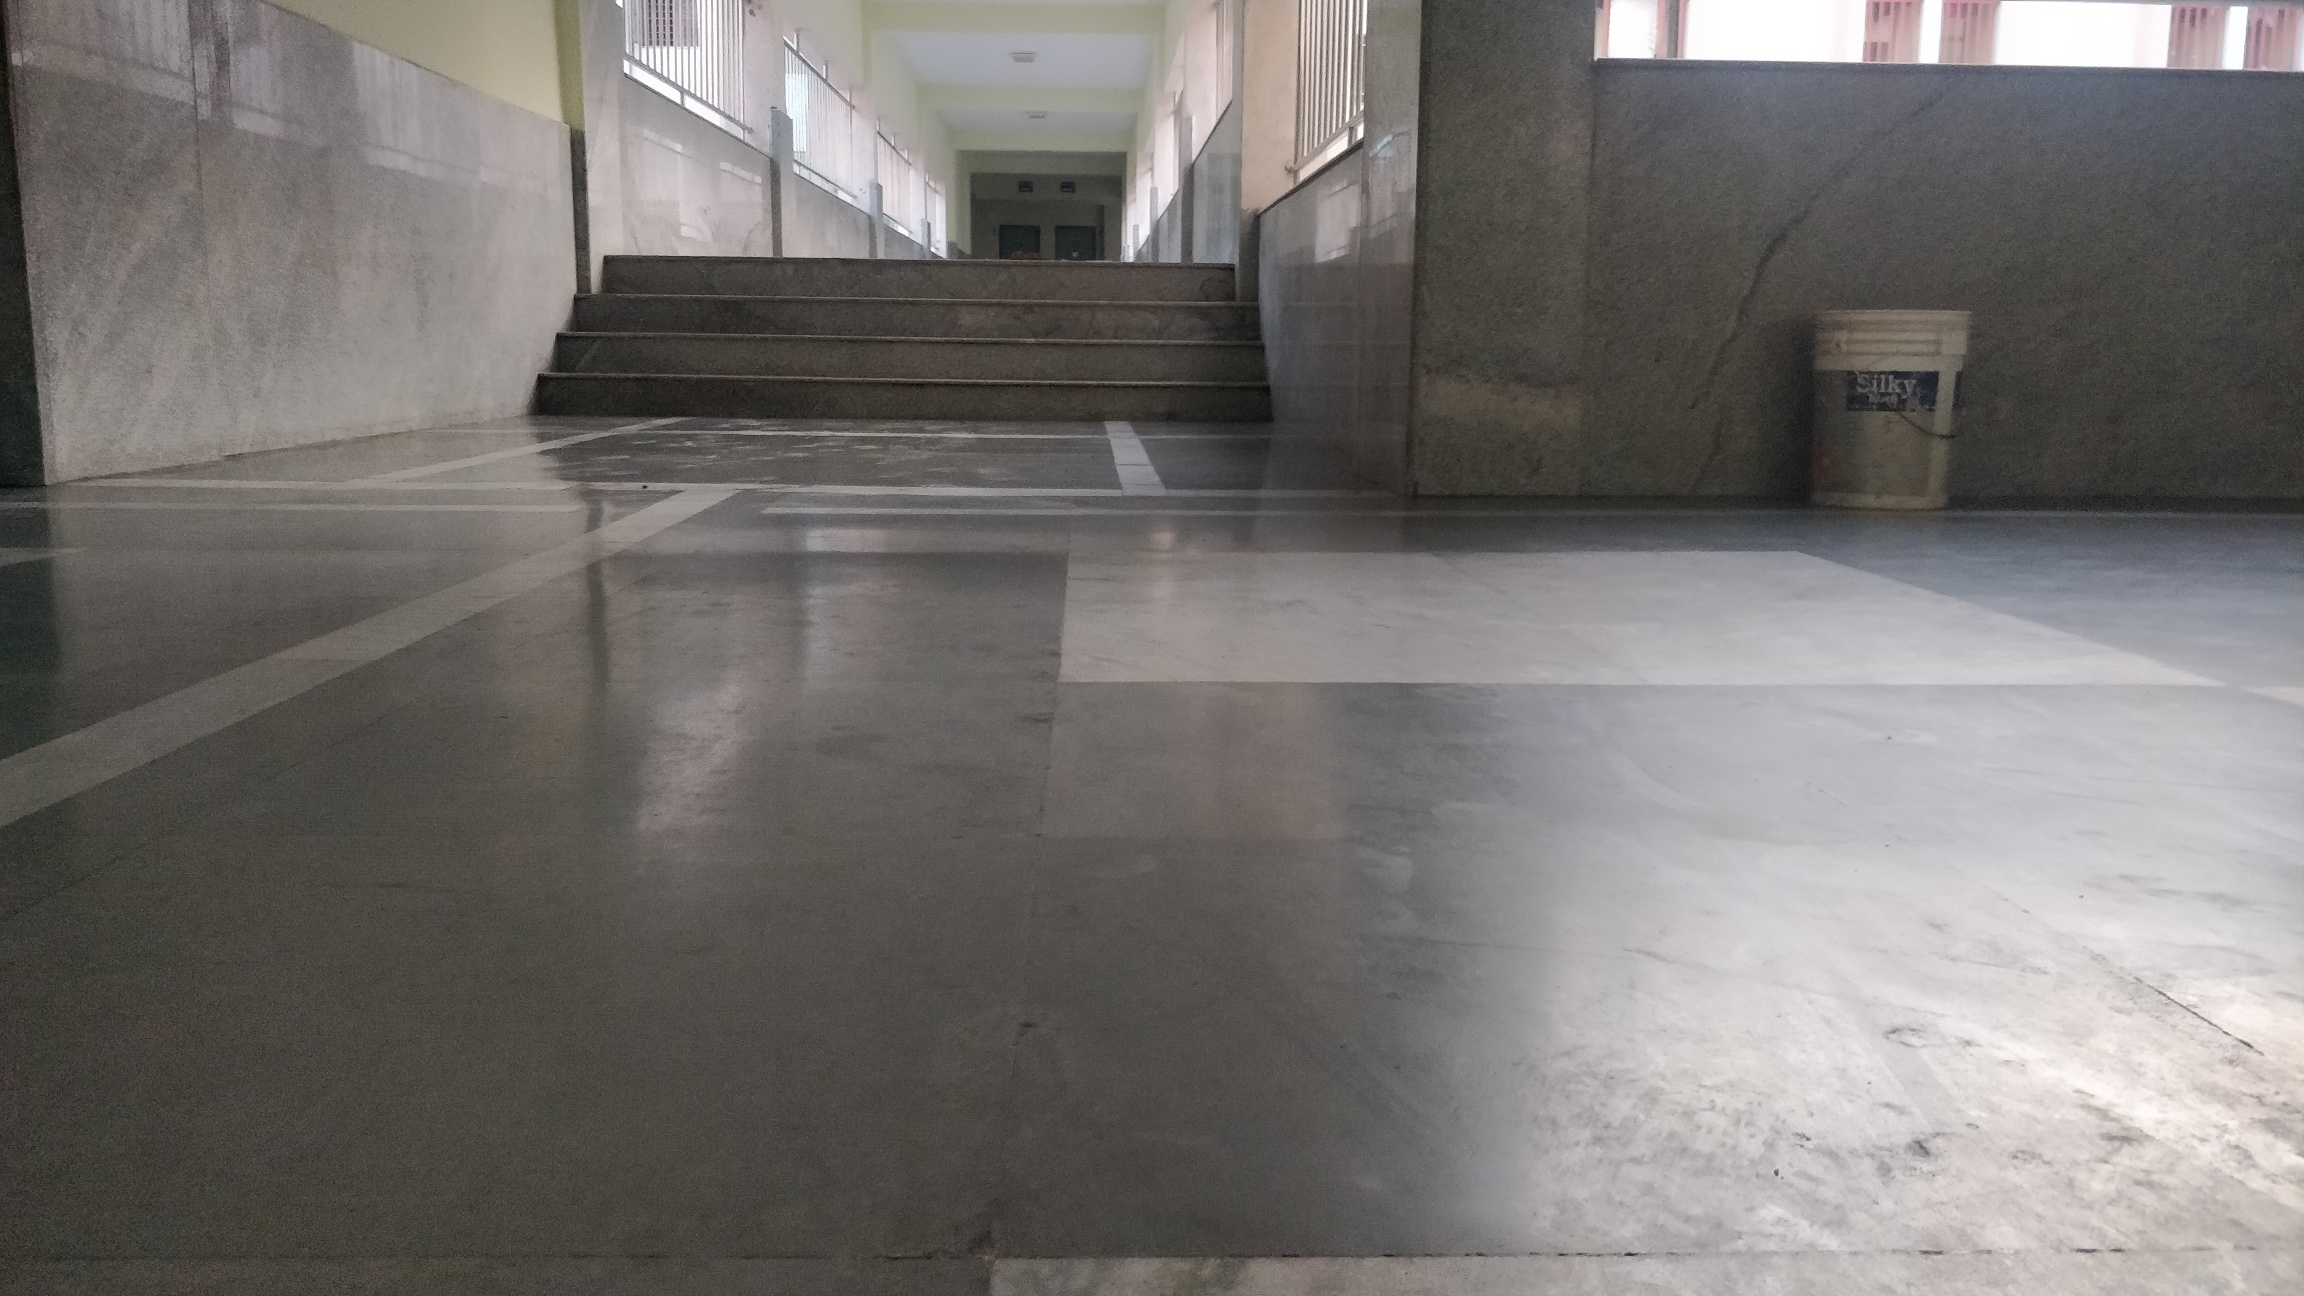stairs_up: (522, 239, 1272, 426)
